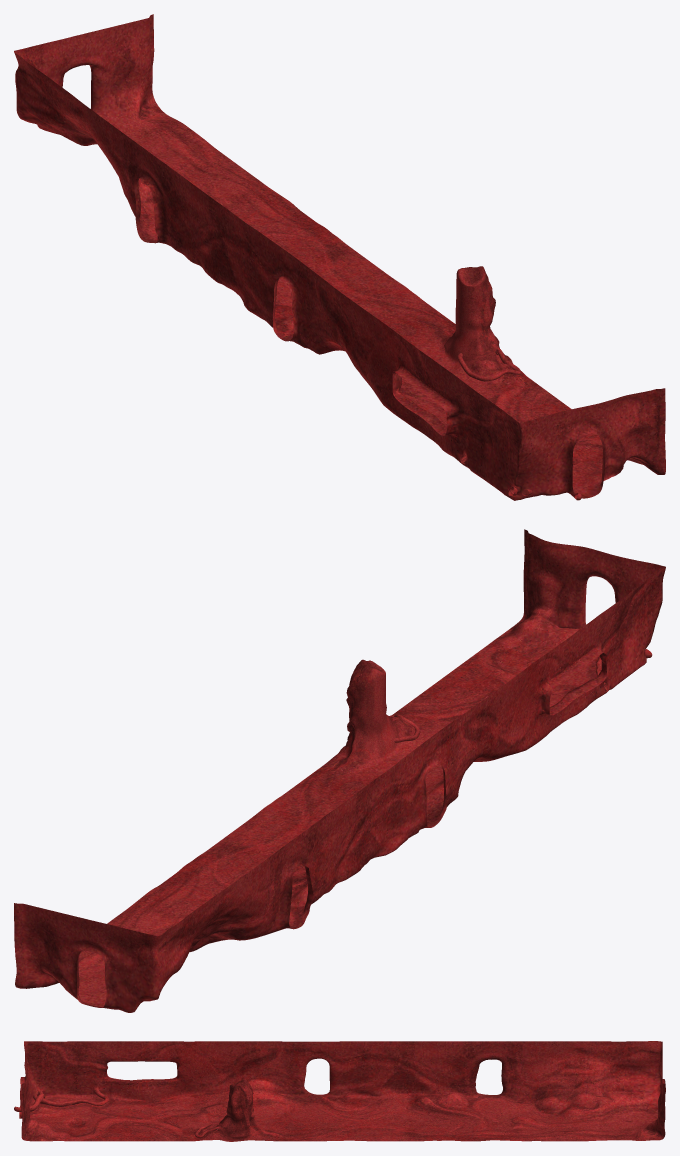
The model's file is FleshLowerPoly.fbx.
The picture shows the model from 3 angles, top to bottom: view 1: azimuth 30°, elevation 25°; view 2: azimuth 150°, elevation 25°; view 3: azimuth 270°, elevation 25°; orthographic projection. The views are drawn at different scales.
Parts seen in each view (by area): view 1: Flesh.001; view 2: Flesh.001; view 3: Flesh.001.
Part boxes in pixels (x1,y1,x2,y2): Flesh.001: (14,14,665,500); Flesh.001: (14,529,665,1012); Flesh.001: (14,1041,665,1141).
Size of the model in its own units: 1751 by 1034 by 10113.
